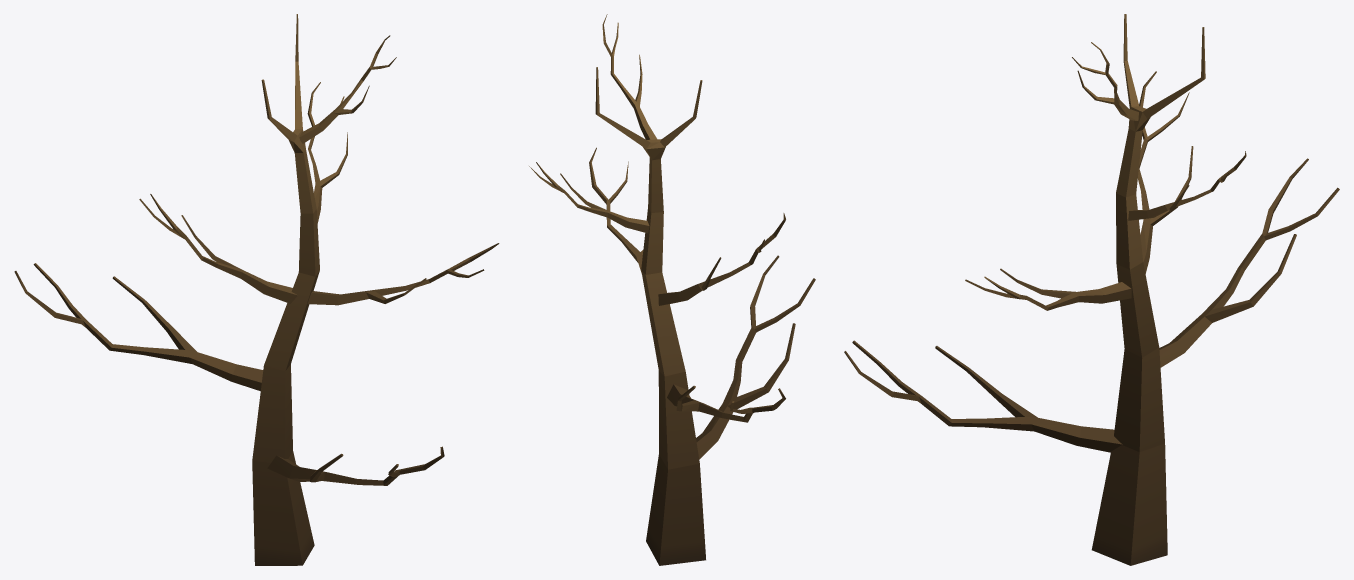
File: Tree_03.fbx
3 renders of one model, left to right at view 1: azimuth 30°, elevation 25°; view 2: azimuth 150°, elevation 25°; view 3: azimuth 270°, elevation 25°, orthographic. The views are drawn at different scales.
Parts seen in each view (by area): view 1: Tree_03; view 2: Tree_03; view 3: Tree_03.
Boxes of the visible parts, x1,y1,x2,y2 form: Tree_03: (14,14,499,565); Tree_03: (529,14,815,565); Tree_03: (844,14,1339,565).
Size of the model in its own units: 3.73 by 5.46 by 4.38.
